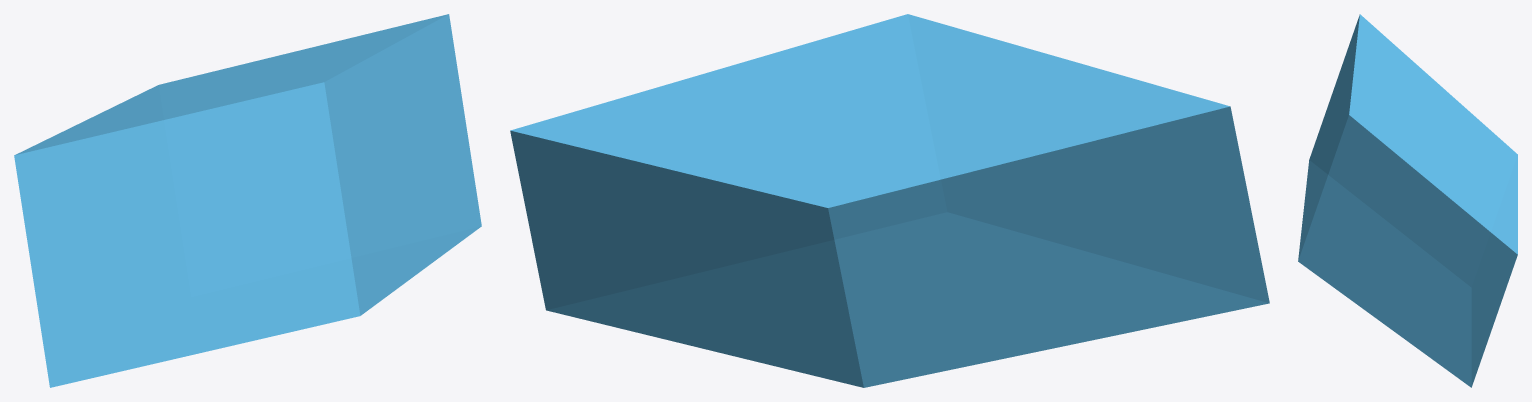
Rendered from Event_421127236_HBrechit_12.fbx.
3 renders of one model, left to right at view 1: azimuth 30°, elevation 25°; view 2: azimuth 150°, elevation 25°; view 3: azimuth 270°, elevation 25°, orthographic. The views are drawn at different scales.
Visible parts, largest first — view 1: Model; view 2: Model; view 3: Model.
Part boxes in pixels (bbox=[...]): Model: bbox=[14, 14, 481, 387]; Model: bbox=[510, 14, 1269, 387]; Model: bbox=[1298, 14, 1517, 387].
Size of the model in its own units: 1.16 by 0.5432 by 0.5731.
